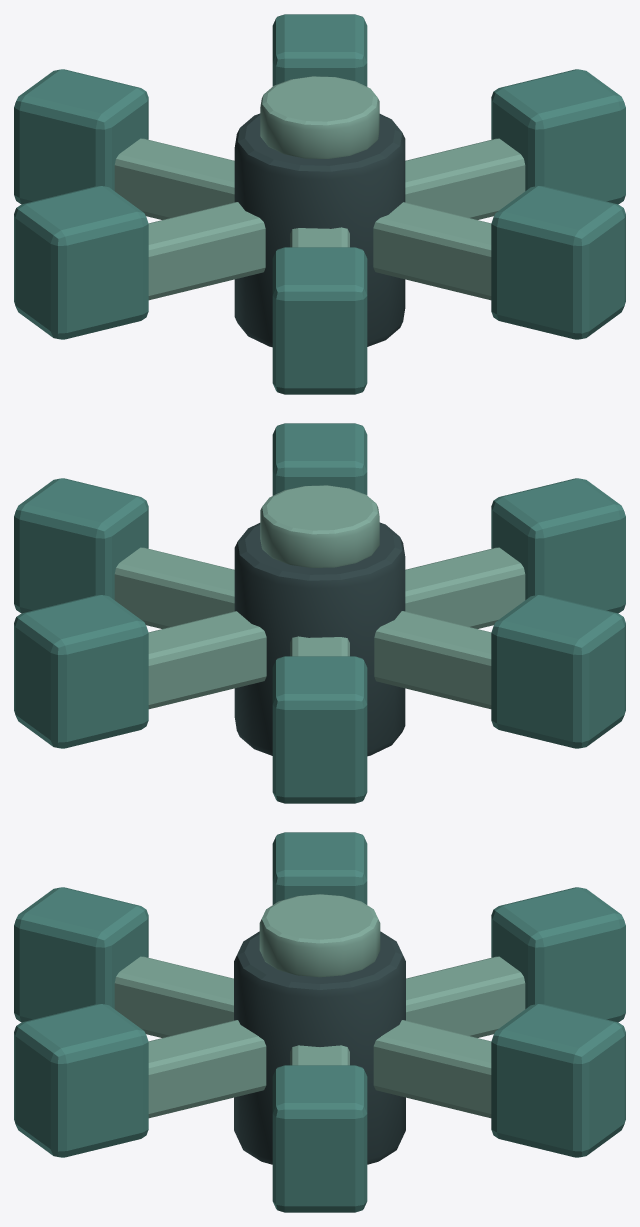
Rendered from recycler_rotor.glb.
3 renders of one model, top to bottom at view 1: azimuth 30°, elevation 25°; view 2: azimuth 150°, elevation 25°; view 3: azimuth 270°, elevation 25°, orthographic.
Parts seen in each view (by area): view 1: recycler_rotor · copper, recycler_rotor · copper_light, recycler_rotor · metal; view 2: recycler_rotor · copper, recycler_rotor · copper_light, recycler_rotor · metal; view 3: recycler_rotor · copper, recycler_rotor · copper_light, recycler_rotor · metal.
Boxes of the visible parts, x1,y1,x2,y2 form: recycler_rotor · copper: [14, 14, 625, 394]; recycler_rotor · copper_light: [114, 76, 525, 300]; recycler_rotor · metal: [234, 113, 405, 347]; recycler_rotor · copper: [14, 423, 625, 803]; recycler_rotor · copper_light: [114, 485, 525, 709]; recycler_rotor · metal: [234, 522, 405, 756]; recycler_rotor · copper: [14, 832, 625, 1212]; recycler_rotor · copper_light: [114, 894, 525, 1118]; recycler_rotor · metal: [234, 931, 405, 1164].
Size of the model in its own units: 0.385 by 0.1425 by 0.3553.
